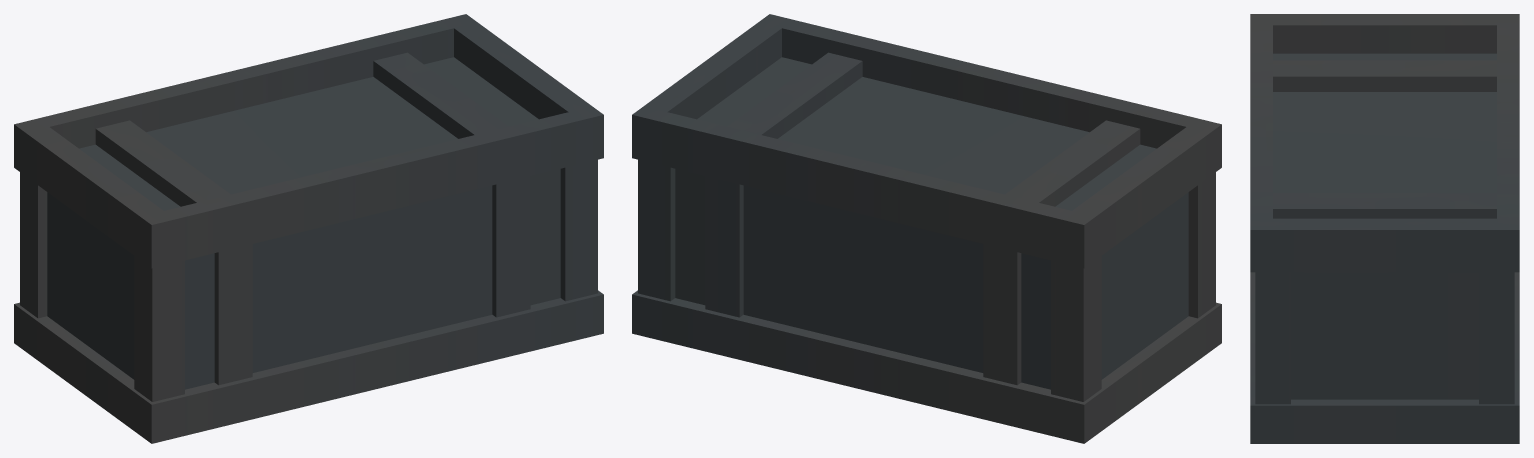
The model's file is Crate_Metal_02.FBX.
The picture shows the model from 3 angles, left to right: view 1: azimuth 30°, elevation 25°; view 2: azimuth 150°, elevation 25°; view 3: azimuth 270°, elevation 25°; orthographic projection. The views are drawn at different scales.
Parts seen in each view (by area): view 1: Crate_Metal_02; view 2: Crate_Metal_02; view 3: Crate_Metal_02.
Part boxes in pixels (x1,y1,x2,y2): Crate_Metal_02: [14, 14, 603, 443]; Crate_Metal_02: [632, 14, 1221, 443]; Crate_Metal_02: [1250, 14, 1519, 443].
Size of the model in its own units: 1.62 by 0.7506 by 0.856.
